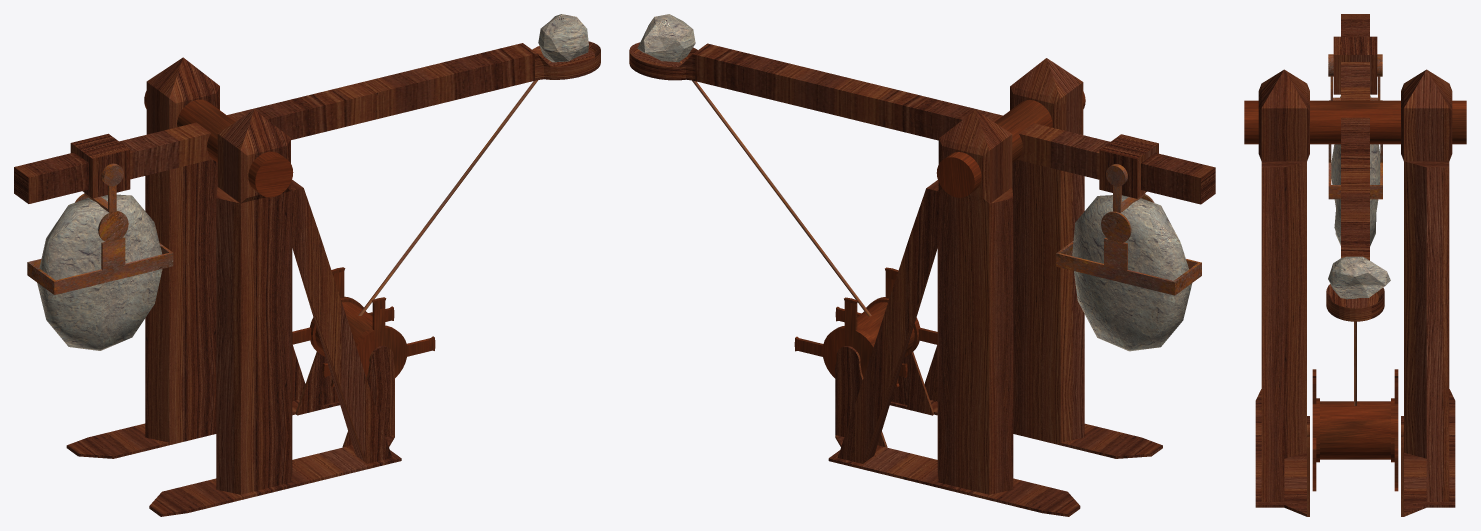
File: Catapulte 1.FBX
The picture shows the model from 3 angles, left to right: view 1: azimuth 30°, elevation 25°; view 2: azimuth 150°, elevation 25°; view 3: azimuth 270°, elevation 25°; orthographic projection.
Parts seen in each view (by area): view 1: Montants, Perche, roche, Manivelle, meca3, Mecanisme, Munition, Corde, meca2; view 2: Montants, Perche, roche, Manivelle, meca3, Mecanisme, Munition, Corde, meca2; view 3: Montants, Perche, Manivelle, Mecanisme, Munition, roche, meca3, meca2.
Boxes of the visible parts, x1,y1,x2,y2 form: Montants: [66, 57, 401, 516]; Perche: [14, 41, 600, 203]; roche: [37, 194, 162, 350]; Manivelle: [292, 267, 435, 386]; meca3: [27, 194, 173, 294]; Mecanisme: [144, 91, 293, 197]; Munition: [538, 14, 588, 62]; Corde: [358, 61, 550, 315]; meca2: [84, 163, 123, 212]; Montants: [828, 58, 1162, 516]; Perche: [629, 42, 1215, 204]; roche: [1072, 195, 1192, 351]; Manivelle: [794, 267, 937, 387]; meca3: [1056, 194, 1201, 295]; Mecanisme: [936, 91, 1085, 197]; Munition: [637, 14, 695, 62]; Corde: [679, 61, 871, 316]; meca2: [1106, 164, 1145, 212]; Montants: [1255, 69, 1455, 516]; Perche: [1326, 14, 1384, 321]; Manivelle: [1312, 369, 1398, 491]; Mecanisme: [1244, 100, 1466, 144]; Munition: [1328, 256, 1390, 299]; roche: [1331, 95, 1380, 246]; meca3: [1328, 100, 1382, 199]; meca2: [1328, 54, 1382, 100].
Bounding box in the file's own units: 1139 × 705 × 380.
Materials: 4 (4 with a texture image).
